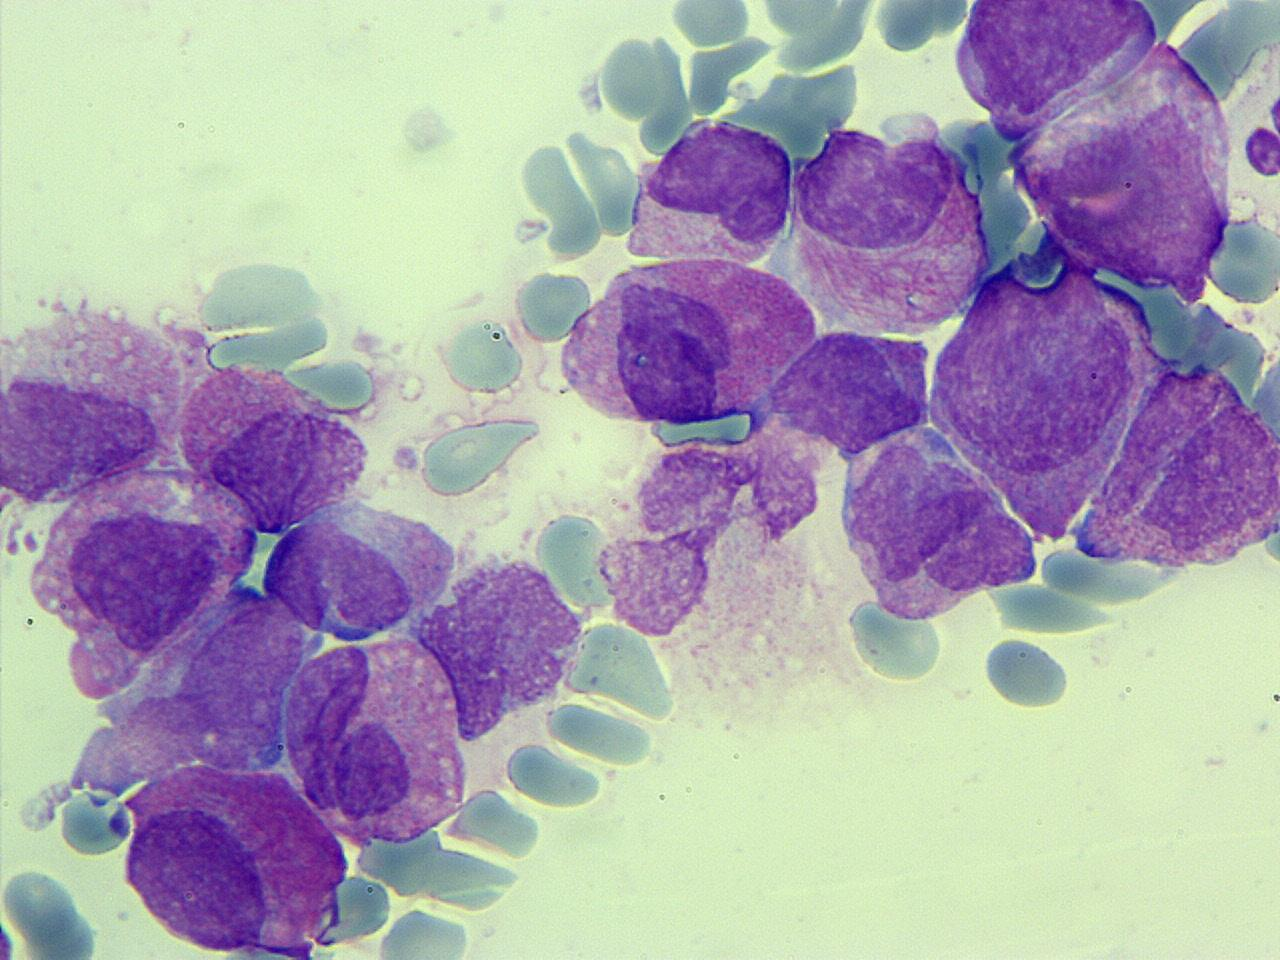Platelets: (979, 634, 1075, 712), (873, 1, 941, 55), (1241, 122, 1279, 179), (388, 442, 421, 474)
RBC: (0, 862, 107, 958), (511, 267, 596, 346), (594, 30, 664, 123)
WBC: (522, 0, 1280, 728), (4, 268, 600, 960), (1032, 296, 1278, 604), (594, 398, 830, 714), (1014, 36, 1246, 300), (778, 103, 998, 343), (559, 252, 812, 429), (276, 629, 469, 851), (0, 293, 198, 507), (837, 430, 1041, 626), (233, 492, 467, 660), (173, 357, 375, 540), (954, 2, 1160, 137), (622, 112, 796, 264), (767, 319, 936, 458)
